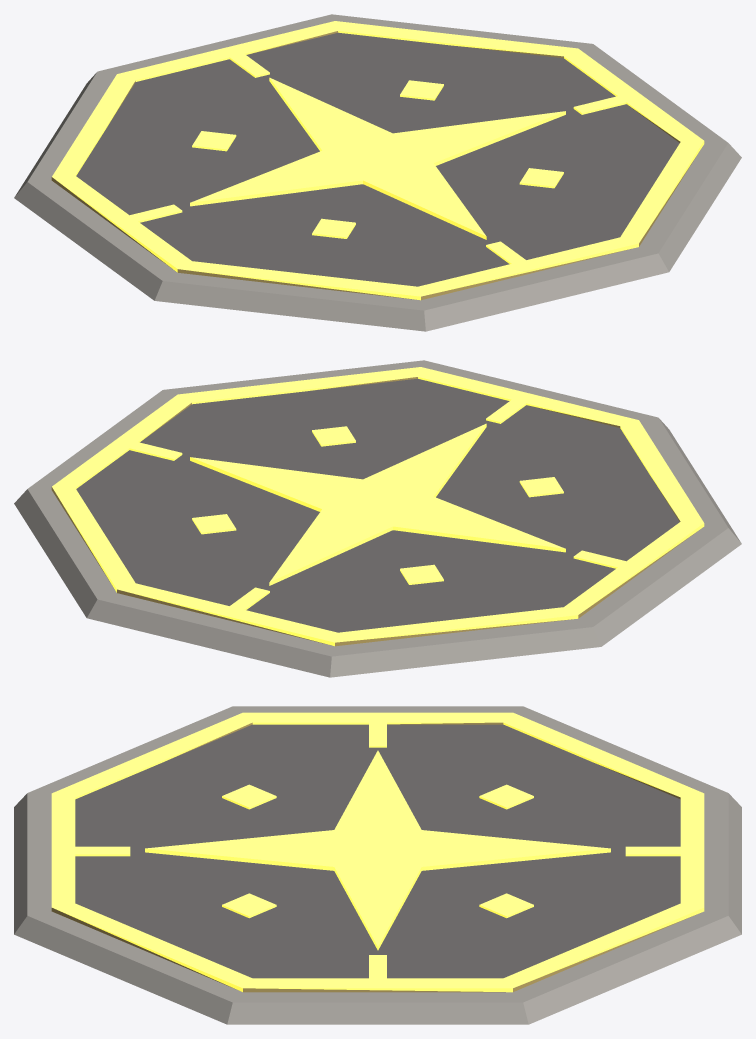
Rendered from CheckPoint2.gltf.
3 renders of one model, top to bottom at view 1: azimuth 30°, elevation 25°; view 2: azimuth 150°, elevation 25°; view 3: azimuth 270°, elevation 25°, orthographic. The views are drawn at different scales.
Visible parts, largest first — view 1: Checkpoint; view 2: Checkpoint; view 3: Checkpoint.
Boxes of the visible parts, x1,y1,x2,y2 form: Checkpoint: [14, 14, 741, 331]; Checkpoint: [14, 360, 741, 677]; Checkpoint: [14, 706, 741, 1024].
Size of the model in its own units: 2 by 0.068 by 2.
